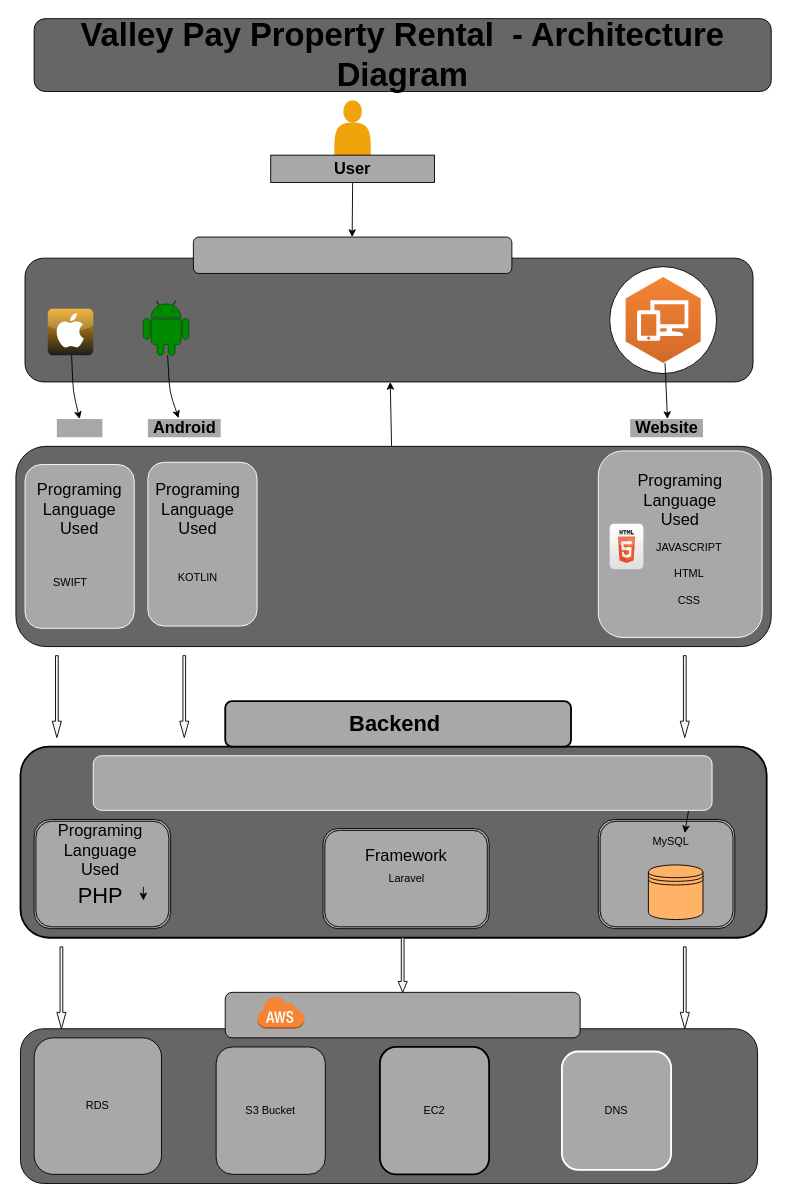
This 787x1199 diagram has some shape labels left out. The shapes that lost their labels are listed below. From the top down, each one's box as (x1, y1, x2, y2) in pixels, then its label:
(192, 236, 512, 273): FrontEnd
(24, 257, 753, 382): Client Facing Applications
(56, 419, 102, 437): IOS
(92, 755, 712, 810): Server Side Application
(224, 991, 580, 1038): Cloud Services
